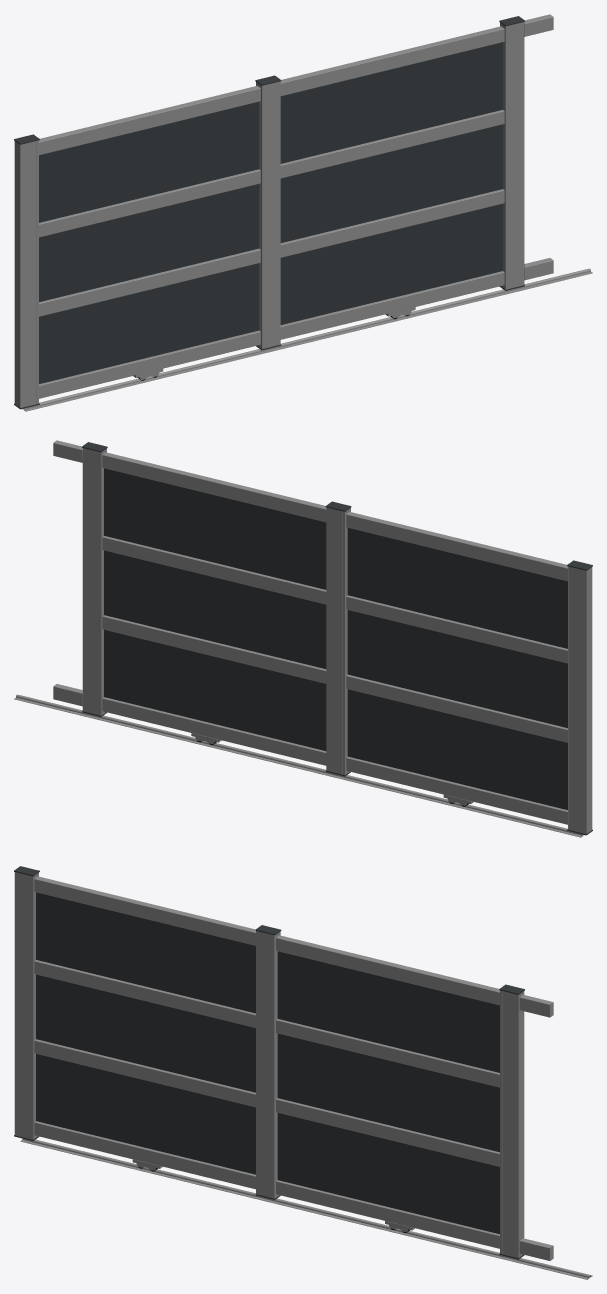
3 views of the same model, one above another, from view 1: azimuth 30°, elevation 25°; view 2: azimuth 150°, elevation 25°; view 3: azimuth 330°, elevation 25° (orthographic).
Parts seen in each view (by area): view 1: Box2330, Shape107412142, Shape107412141, Shape107412138, Shape107412135, Shape107412643, Shape107413021, Shape107413022, Rail; view 2: Box2330, Shape107412142, Shape107412141, Shape107412135, Shape107412138, Shape107412643, Shape107413021, Shape107413022, Rail; view 3: Box2330, Shape107412142, Shape107412141, Shape107412135, Shape107412138, Shape107413021, Shape107412643, Shape107413022, Rail.
Part boxes in pixels (<box>): Box2330: <box>39,42,502,383</box>; Shape107412142: <box>39,14,553,155</box>; Shape107412141: <box>39,258,553,398</box>; Shape107412138: <box>39,110,504,237</box>; Shape107412135: <box>39,189,504,316</box>; Shape107412643: <box>14,140,38,407</box>; Shape107413021: <box>500,22,524,289</box>; Shape107413022: <box>256,81,280,348</box>; Rail: <box>22,268,592,411</box>; Box2330: <box>104,468,567,809</box>; Shape107412142: <box>53,440,567,581</box>; Shape107412141: <box>53,684,567,824</box>; Shape107412135: <box>102,615,567,742</box>; Shape107412138: <box>102,536,567,663</box>; Shape107412643: <box>568,566,592,833</box>; Shape107413021: <box>82,448,106,715</box>; Shape107413022: <box>326,507,350,774</box>; Rail: <box>14,694,584,837</box>; Box2330: <box>36,892,499,1234</box>; Shape107412142: <box>34,876,553,1017</box>; Shape107412141: <box>34,1121,553,1260</box>; Shape107412135: <box>34,1039,499,1166</box>; Shape107412138: <box>34,960,499,1087</box>; Shape107413021: <box>500,990,524,1257</box>; Shape107412643: <box>14,872,38,1139</box>; Shape107413022: <box>256,931,280,1198</box>; Rail: <box>20,1138,592,1279</box>.
Size of the model in its own units: 3638 by 1636 by 70.
7 materials, 3 textured.
